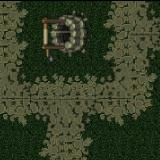Hide: (20, 0, 109, 78)
